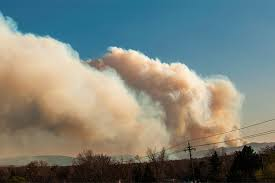smoke: (1, 3, 275, 162)
